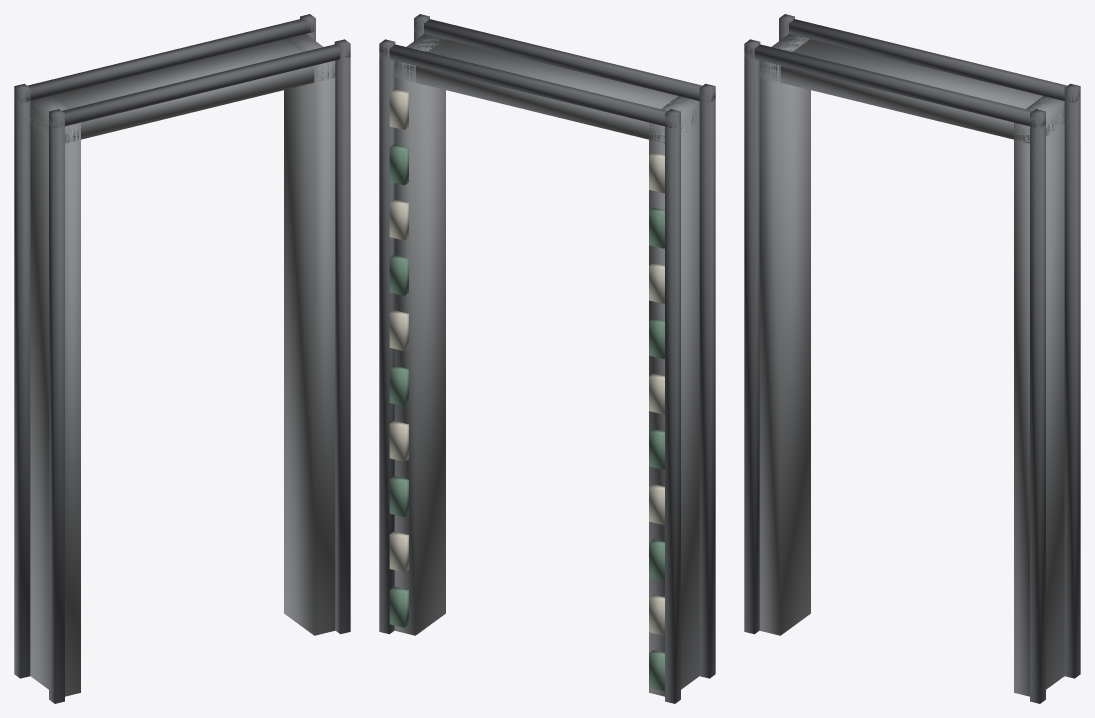
File: doorway_tile_return_w106_h240_d24.glb
3 views of the same model, side by side, from view 1: azimuth 30°, elevation 25°; view 2: azimuth 150°, elevation 25°; view 3: azimuth 330°, elevation 25° (orthographic).
Parts seen in each view (by area): view 1: world; view 2: world; view 3: world.
Part boxes in pixels (x1,y1,x2,y2): world: (14,14,350,703); world: (379,14,715,703); world: (744,14,1080,703).
Bounding box in the file's own units: 1.34 × 2.55 × 0.3214.
